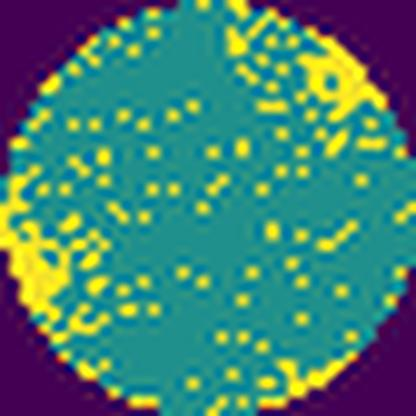Edge-Loc: (0, 172, 76, 323), (292, 24, 390, 124), (256, 343, 362, 412)
